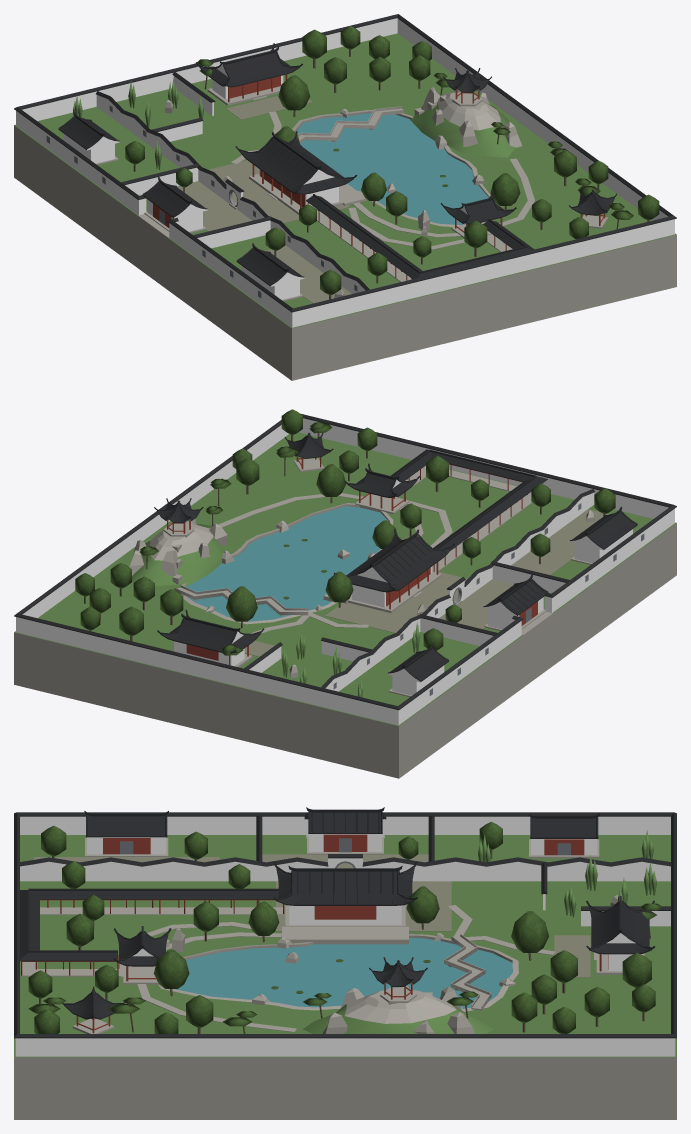
File: top-prebuilt.fbx
The picture shows the model from 3 angles, top to bottom: view 1: azimuth 30°, elevation 25°; view 2: azimuth 150°, elevation 25°; view 3: azimuth 270°, elevation 25°; orthographic projection. The views are drawn at different scales.
Parts seen in each view (by area): view 1: landmark-classical_garden/0/top-prebuilt; view 2: landmark-classical_garden/0/top-prebuilt; view 3: landmark-classical_garden/0/top-prebuilt.
Boxes of the visible parts, x1,y1,x2,y2 form: landmark-classical_garden/0/top-prebuilt: [14, 14, 676, 380]; landmark-classical_garden/0/top-prebuilt: [14, 409, 676, 778]; landmark-classical_garden/0/top-prebuilt: [14, 807, 676, 1119].
Size of the model in its own units: 80 by 22 by 100.
